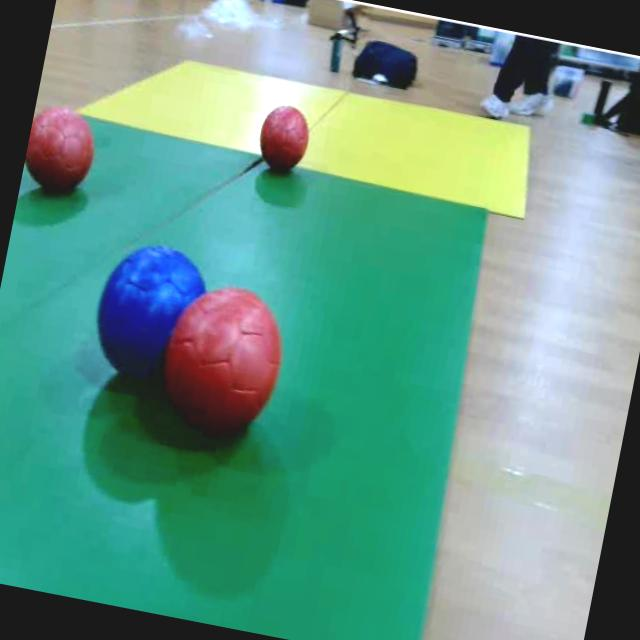blue_ball: (81, 232, 192, 384)
red_ball: (156, 276, 298, 456), (19, 97, 104, 203), (254, 99, 316, 178)
